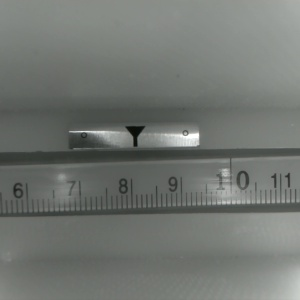0: (236, 170, 249, 190)
1: (216, 171, 225, 191), (279, 172, 284, 188)
6: (12, 183, 22, 199)
7: (66, 180, 76, 196)
8: (117, 178, 127, 193)
9: (167, 176, 176, 192)
finger: (124, 126, 145, 147)
